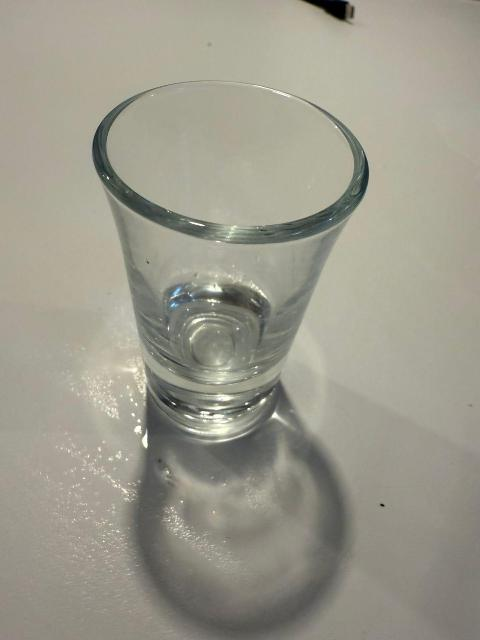Cam: (93, 75, 367, 425)
